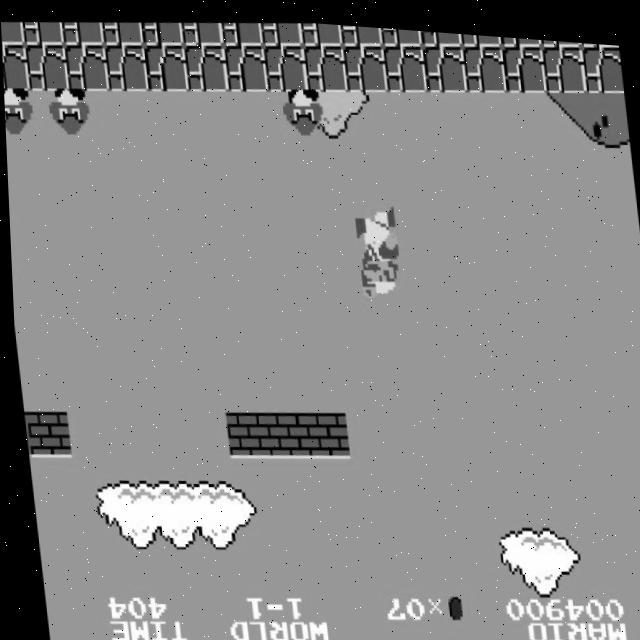1- brick_block: (301, 405, 346, 456), (221, 406, 266, 457), (22, 408, 67, 459), (261, 406, 306, 456)
13- mystery_block: (20, 411, 27, 458)
17- undestructible_block: (501, 35, 547, 87), (421, 36, 467, 88), (262, 38, 308, 90), (222, 38, 268, 90), (182, 39, 228, 91), (103, 40, 149, 92), (461, 36, 507, 87), (302, 38, 348, 89), (63, 41, 109, 92), (23, 41, 69, 92), (541, 35, 586, 87), (342, 37, 387, 89), (382, 37, 427, 88), (143, 40, 188, 91), (582, 35, 623, 85), (1, 42, 29, 93), (220, 16, 264, 45), (180, 16, 224, 45), (140, 17, 184, 46), (100, 17, 144, 46), (21, 18, 65, 47), (260, 16, 303, 44), (61, 18, 104, 46), (299, 17, 343, 43), (339, 20, 383, 43), (379, 22, 423, 43), (419, 24, 463, 42), (1, 20, 25, 47), (459, 27, 502, 41), (499, 29, 542, 41), (539, 31, 582, 41)
4- fire_mario: (351, 198, 404, 298)
8- goomba: (45, 83, 93, 138), (280, 81, 328, 136), (3, 85, 36, 139)
